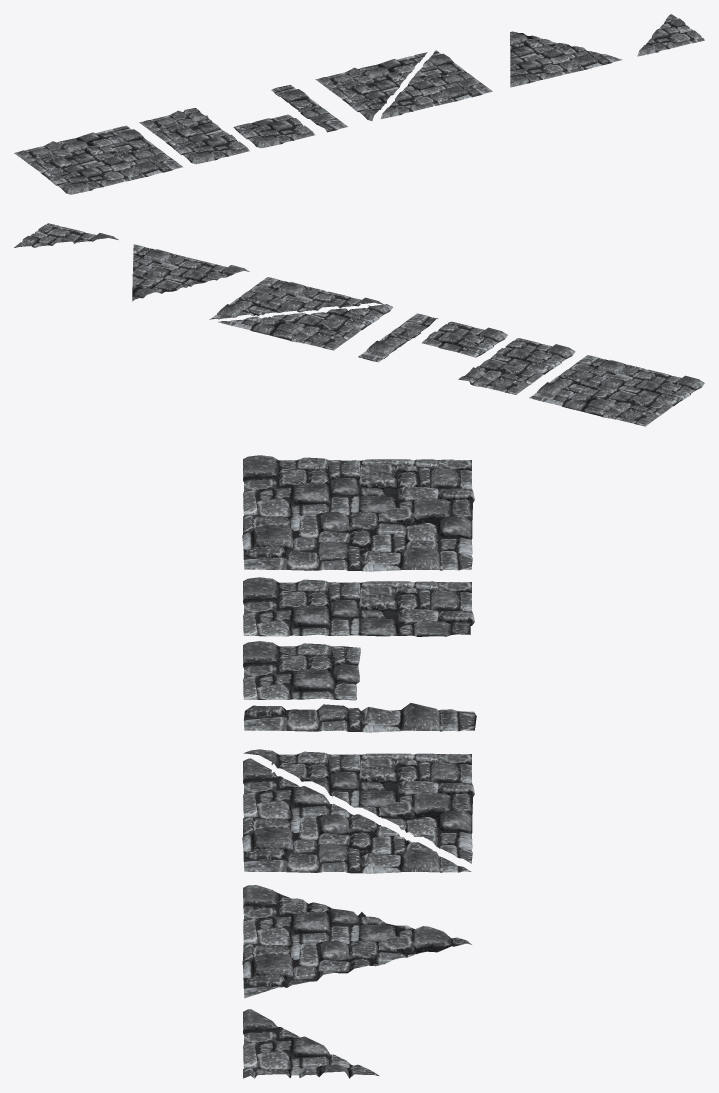
Rendered from Stone Surface.FBX.
The picture shows the model from 3 angles, top to bottom: view 1: azimuth 30°, elevation 25°; view 2: azimuth 150°, elevation 25°; view 3: azimuth 270°, elevation 25°; orthographic projection. The views are drawn at different scales.
Parts seen in each view (by area): view 1: Stone Surface, Stone Surface Triangle, Stone Surface Diagonal 2, Stone Surface Half, Stone Surface Diagonal 1, Stone Surface Quarter, Stone Surface Diagonal Half, Stone Surface Thin; view 2: Stone Surface, Stone Surface Diagonal 1, Stone Surface Half, Stone Surface Triangle, Stone Surface Diagonal 2, Stone Surface Quarter, Stone Surface Thin, Stone Surface Diagonal Half; view 3: Stone Surface, Stone Surface Diagonal 2, Stone Surface Triangle, Stone Surface Half, Stone Surface Diagonal 1, Stone Surface Quarter, Stone Surface Thin, Stone Surface Diagonal Half.
Part boxes in pixels (x1,y1,x2,y2): Stone Surface: [14, 125, 182, 194]; Stone Surface Triangle: [510, 31, 622, 87]; Stone Surface Diagonal 2: [380, 50, 492, 118]; Stone Surface Half: [139, 108, 249, 164]; Stone Surface Diagonal 1: [315, 52, 427, 120]; Stone Surface Quarter: [233, 114, 315, 148]; Stone Surface Diagonal Half: [637, 14, 704, 56]; Stone Surface Thin: [271, 85, 347, 132]; Stone Surface: [529, 355, 704, 426]; Stone Surface Diagonal 1: [218, 304, 392, 350]; Stone Surface Half: [458, 338, 575, 394]; Stone Surface Triangle: [132, 244, 249, 301]; Stone Surface Diagonal 2: [209, 277, 383, 319]; Stone Surface Quarter: [422, 321, 507, 357]; Stone Surface Thin: [358, 313, 437, 362]; Stone Surface Diagonal Half: [14, 223, 118, 247]; Stone Surface: [242, 455, 474, 571]; Stone Surface Diagonal 2: [242, 758, 471, 873]; Stone Surface Triangle: [242, 885, 471, 998]; Stone Surface Half: [243, 577, 474, 636]; Stone Surface Diagonal 1: [243, 749, 474, 863]; Stone Surface Quarter: [243, 641, 360, 700]; Stone Surface Thin: [244, 703, 476, 732]; Stone Surface Diagonal Half: [243, 1009, 378, 1078].
Bounding box in the file's own units: 1561 × 249 × 13.17.
1 material, 1 textured.
